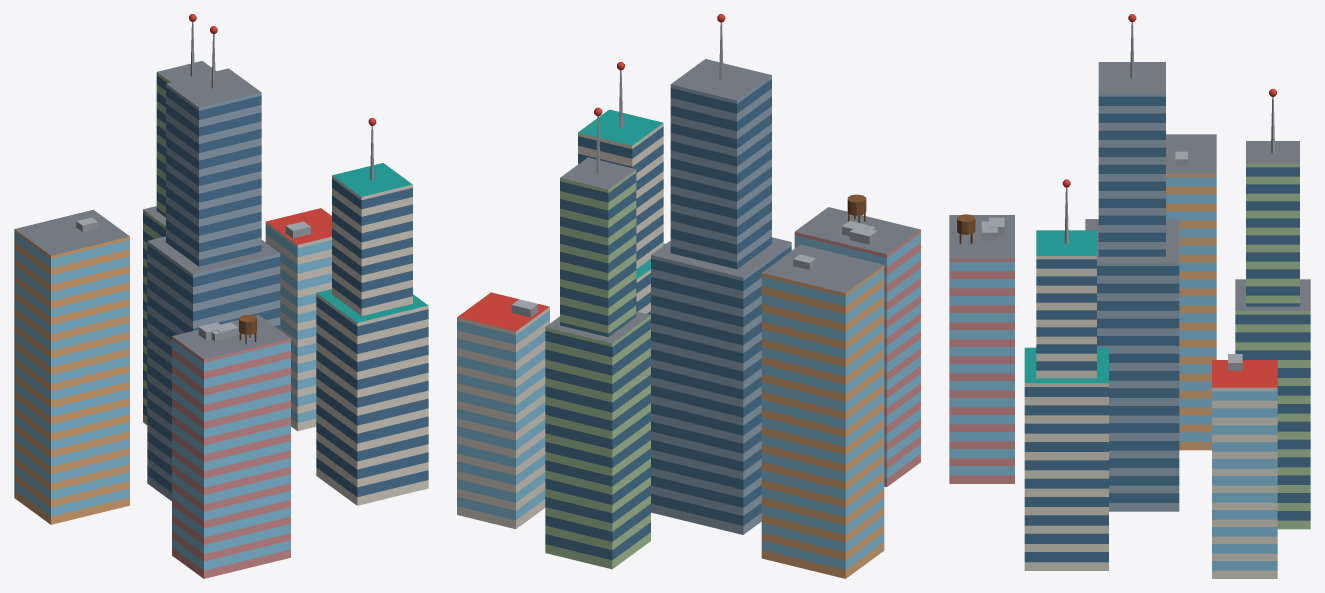
The model's file is TorresCiudad.fbx.
The picture shows the model from 3 angles, left to right: view 1: azimuth 30°, elevation 25°; view 2: azimuth 150°, elevation 25°; view 3: azimuth 270°, elevation 25°; orthographic projection. The views are drawn at different scales.
Parts seen in each view (by area): view 1: TorresCiudad; view 2: TorresCiudad; view 3: TorresCiudad.
Boxes of the visible parts, left/top/right/bottom form: TorresCiudad: left=14, top=14, right=428, bottom=578; TorresCiudad: left=457, top=14, right=920, bottom=578; TorresCiudad: left=949, top=14, right=1310, bottom=578.
Bounding box in the file's own units: 85 × 112 × 77.
1 material, 1 textured.
